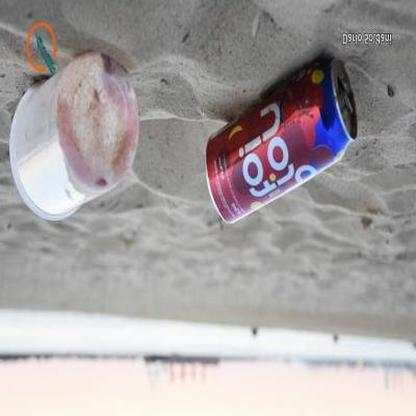can: (204, 57, 357, 225)
